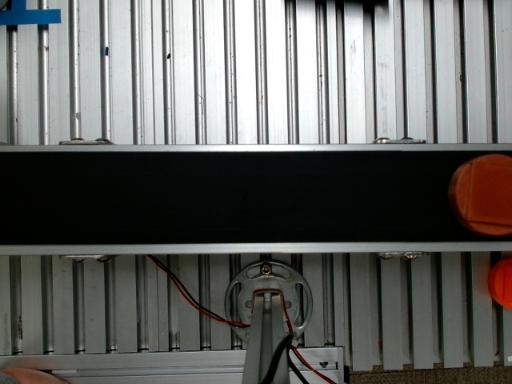Brown_Waper: (449, 154, 511, 235)
